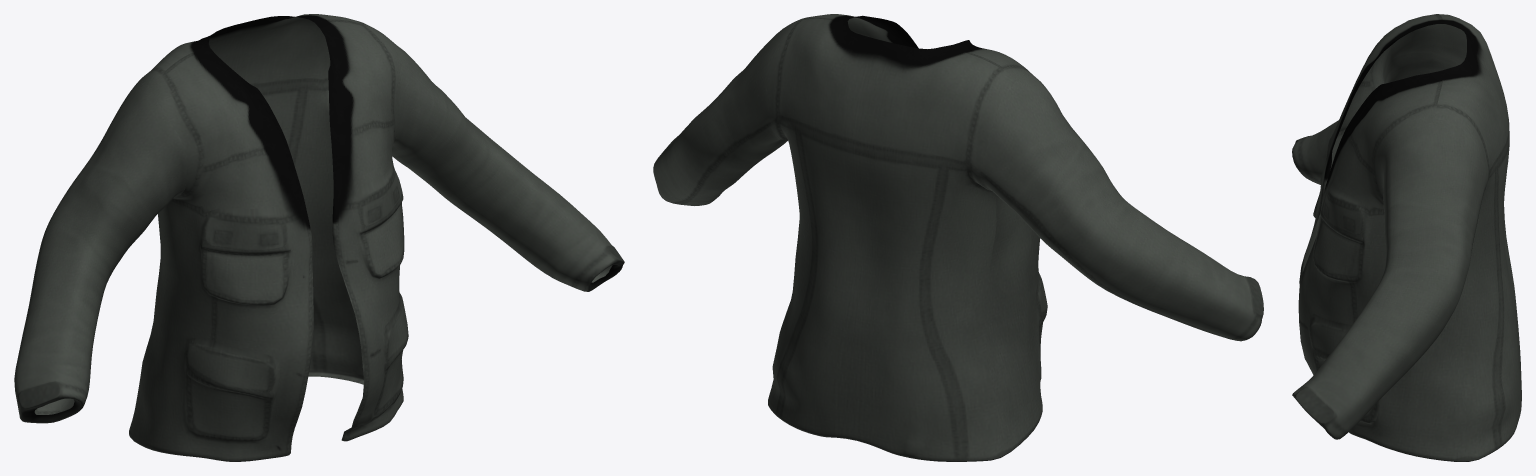
Rendered from ONFIT_Outer_v1.glb.
The picture shows the model from 3 angles, left to right: view 1: azimuth 30°, elevation 25°; view 2: azimuth 150°, elevation 25°; view 3: azimuth 270°, elevation 25°; orthographic projection. The views are drawn at different scales.
Visible parts, largest first — view 1: ONFIT_Outer; view 2: ONFIT_Outer; view 3: ONFIT_Outer.
Part boxes in pixels (x1,y1,x2,y2): ONFIT_Outer: (14,14,624,461); ONFIT_Outer: (653,14,1263,461); ONFIT_Outer: (1292,14,1521,461).
Bounding box in the file's own units: 1 × 0.6186 × 0.3547.
Materials: 1 (1 with a texture image).
